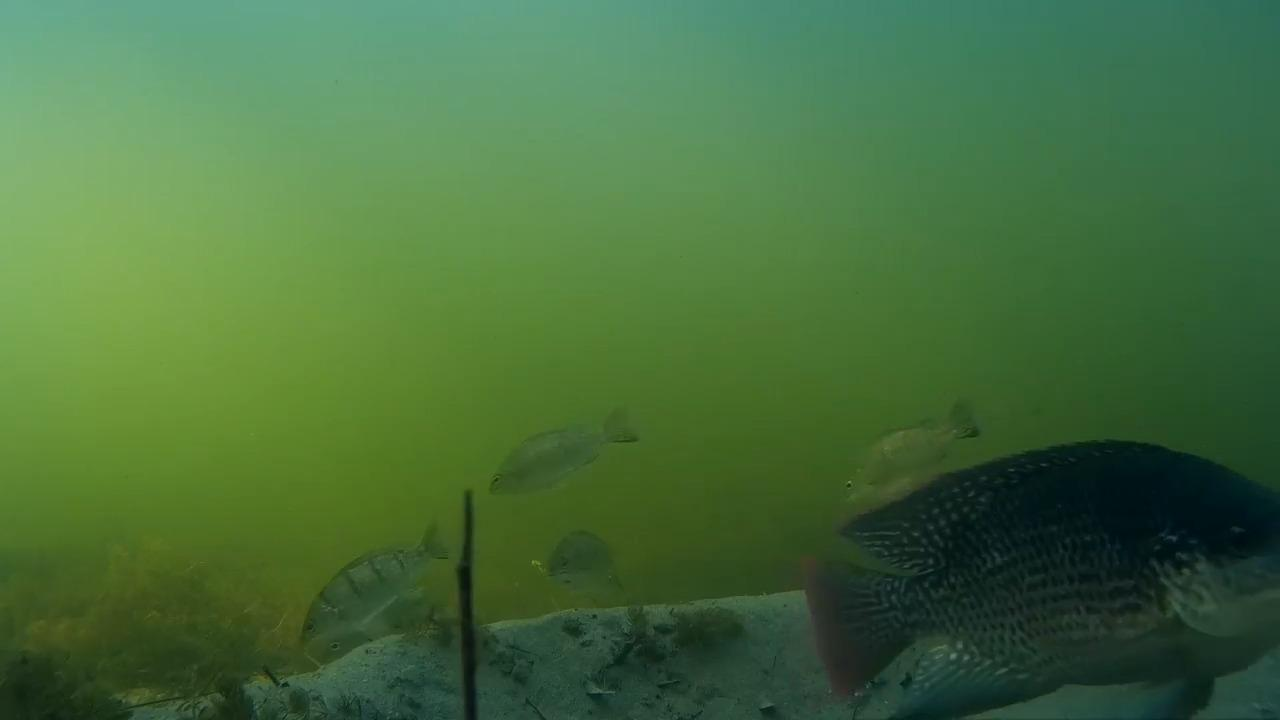Tilapia: (817, 410, 1280, 720), (274, 515, 467, 711), (813, 384, 986, 508), (477, 409, 637, 503), (537, 522, 652, 592)
